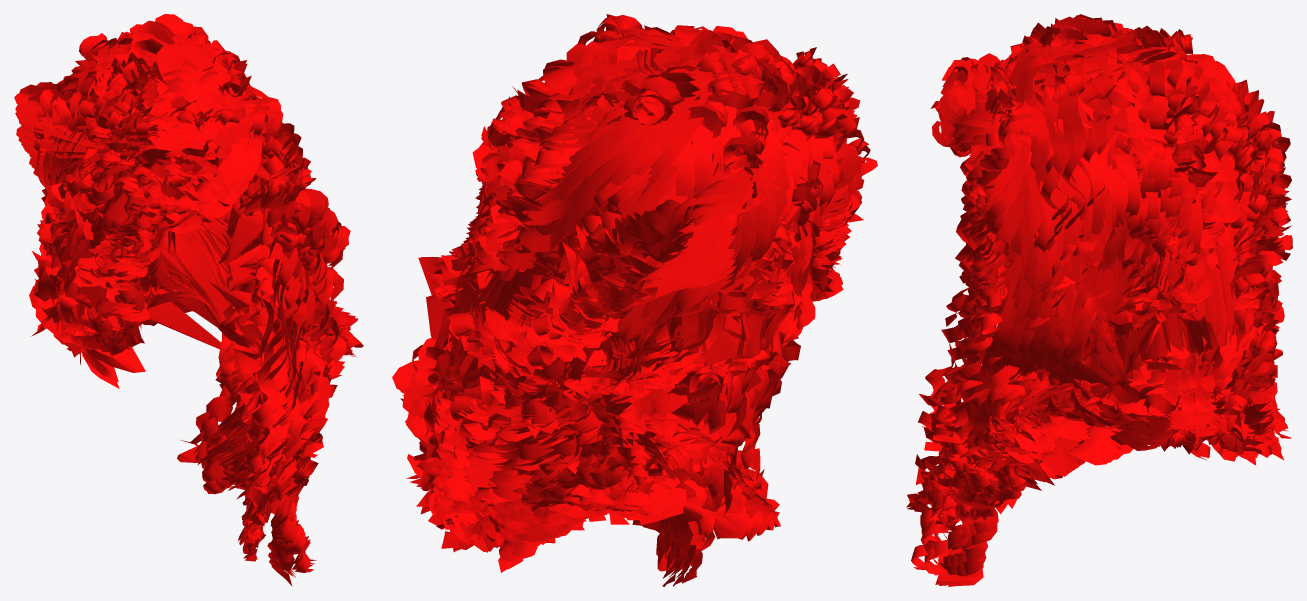
The model's file is o4saken_curly01_M.glb.
The picture shows the model from 3 angles, left to right: view 1: azimuth 30°, elevation 25°; view 2: azimuth 150°, elevation 25°; view 3: azimuth 270°, elevation 25°; orthographic projection. The views are drawn at different scales.
Size of the model in its own units: 0.3117 by 0.4918 by 0.3288.
Materials: 1 (1 with a texture image).
